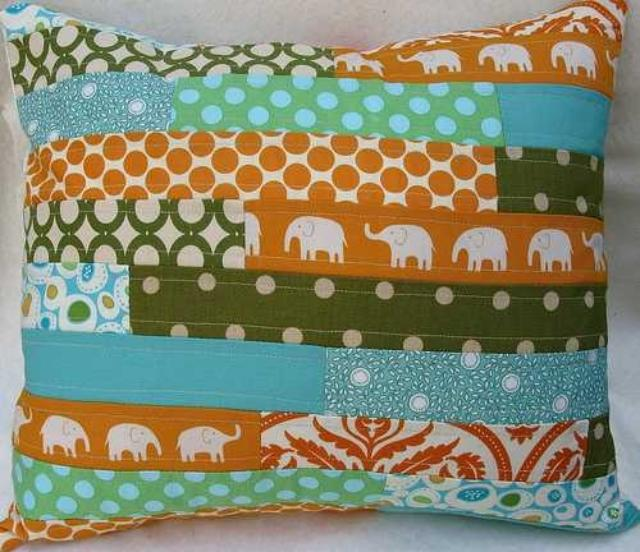pillow: (2, 0, 636, 544)
